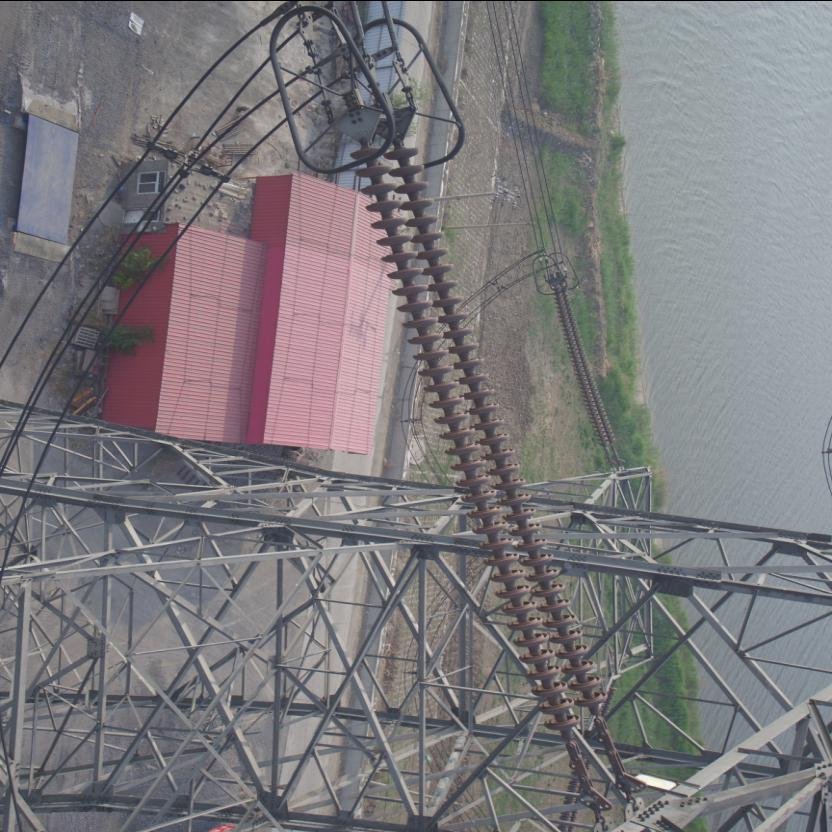insulator: (345, 126, 613, 764)
